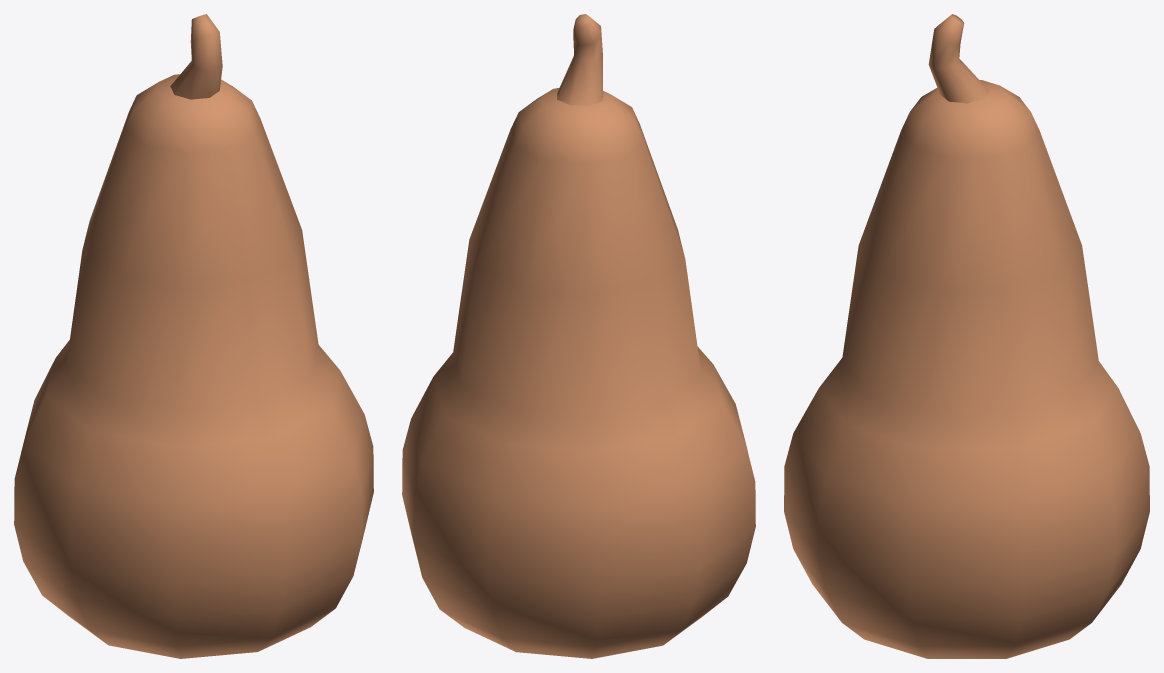
The model's file is SM_Squash_02.fbx.
The picture shows the model from 3 angles, left to right: view 1: azimuth 30°, elevation 25°; view 2: azimuth 150°, elevation 25°; view 3: azimuth 270°, elevation 25°; orthographic projection.
Parts seen in each view (by area): view 1: Cylinder.010, Cylinder.011; view 2: Cylinder.010, Cylinder.011; view 3: Cylinder.010, Cylinder.011.
Part boxes in pixels (bbox=[...]): Cylinder.010: bbox=[14, 74, 373, 658]; Cylinder.011: bbox=[170, 14, 222, 99]; Cylinder.010: bbox=[402, 87, 755, 658]; Cylinder.011: bbox=[557, 14, 602, 106]; Cylinder.010: bbox=[784, 80, 1149, 658]; Cylinder.011: bbox=[928, 14, 989, 103].
Size of the model in its own units: 26.81 by 51.46 by 28.19.
